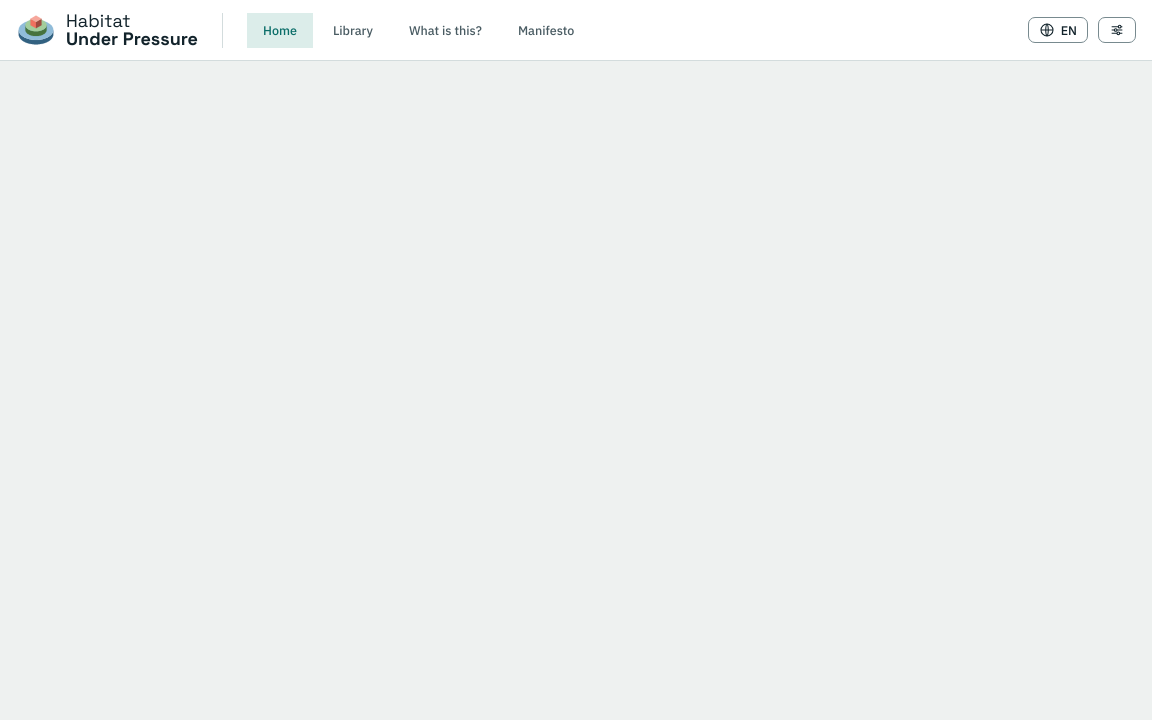
Test: the language can be chosen here too
Click the button named "Options": (1117, 30) [1098, 17, 1136, 43]
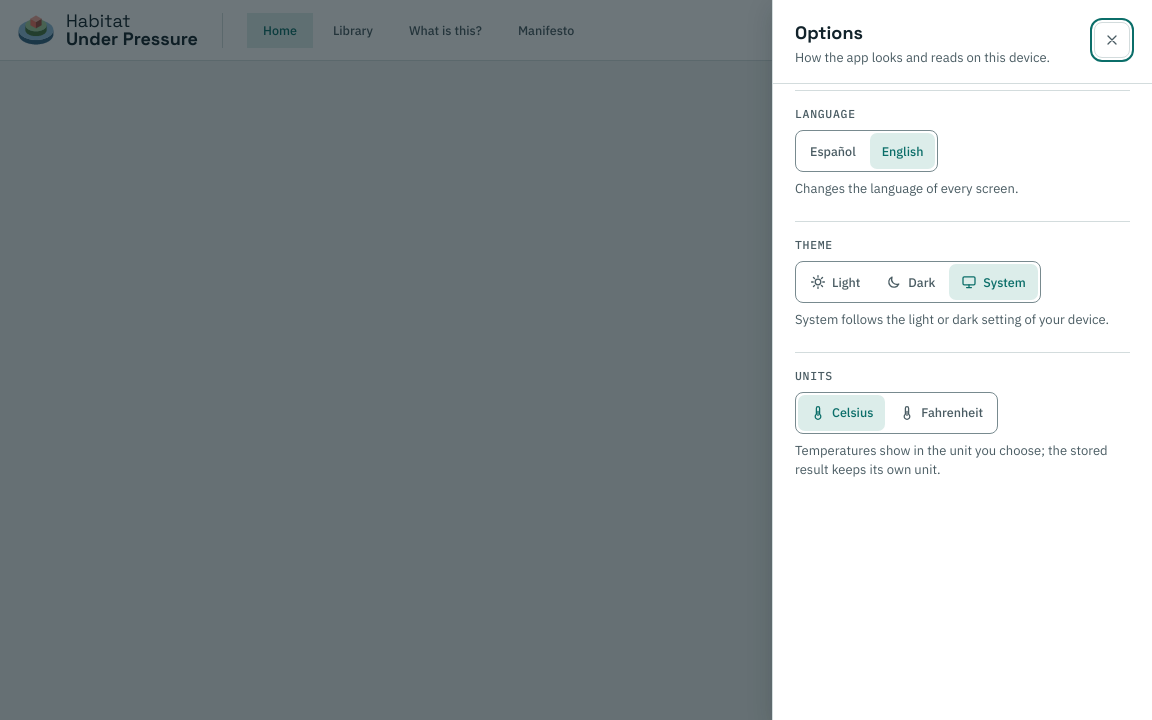
Click the button "Español": (833, 151) [798, 133, 868, 169]
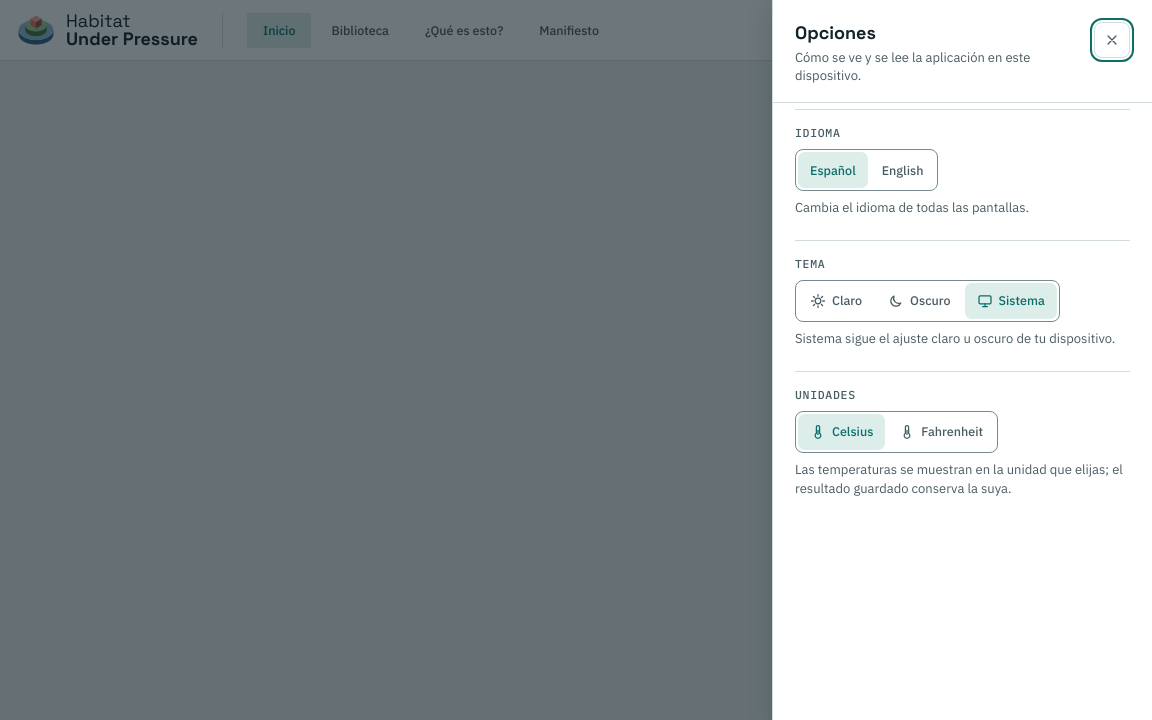
Expected: the dialog "Opciones" is shown, [772, 0, 1151, 719]
